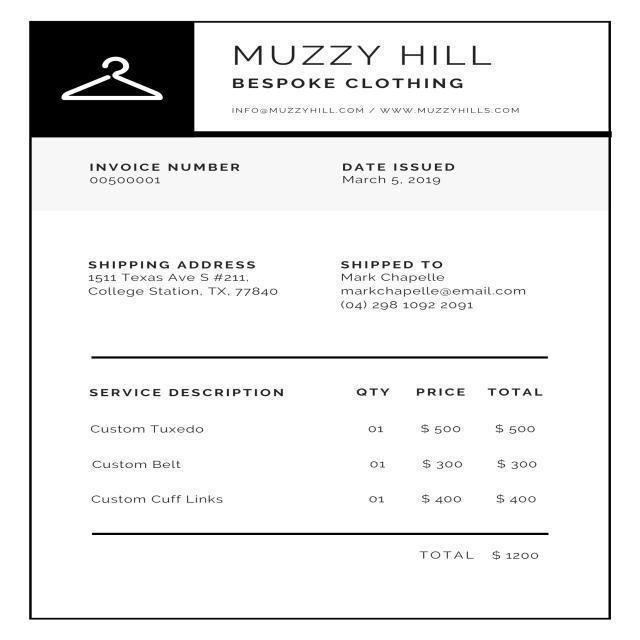ROI: (73, 370, 565, 523), (217, 31, 495, 94), (336, 256, 529, 315), (86, 256, 282, 301), (85, 158, 244, 188), (228, 104, 523, 116), (340, 159, 457, 188), (415, 545, 545, 566)
